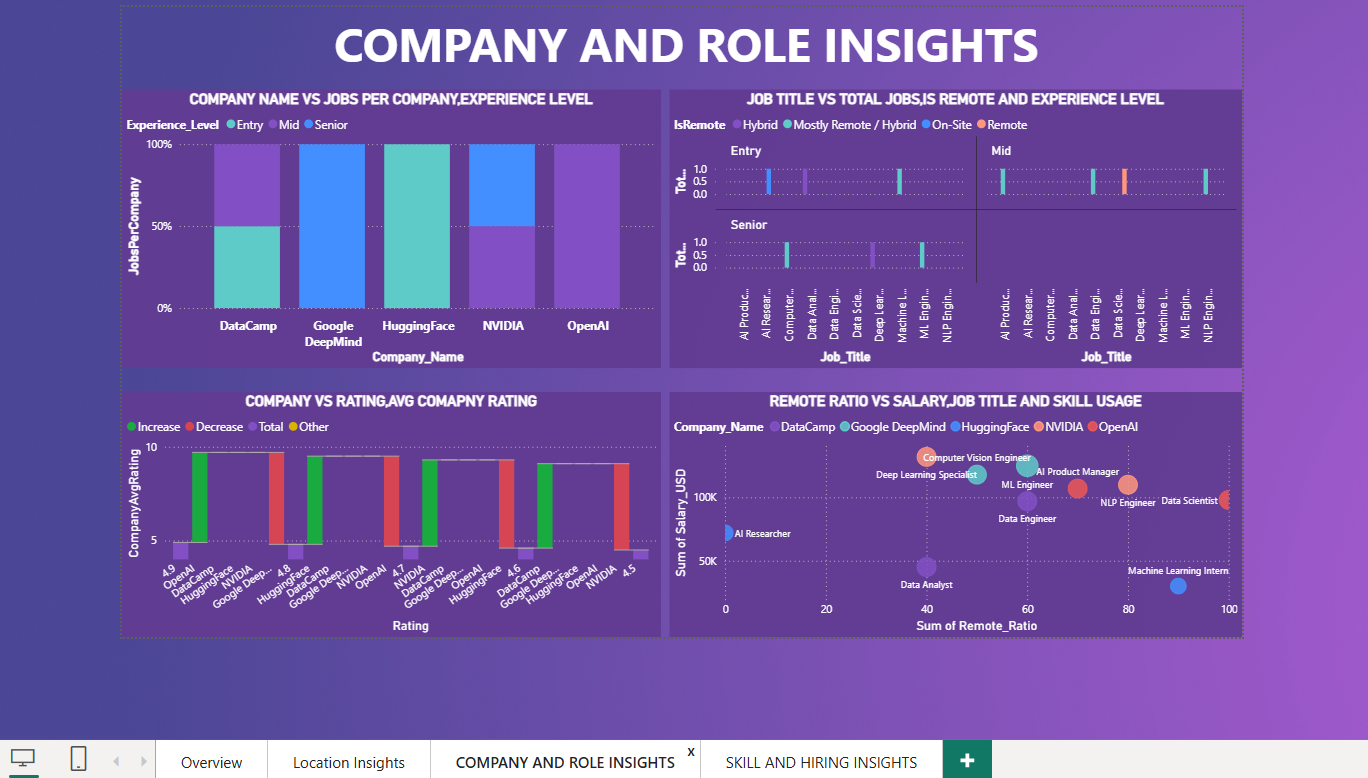

Layout of this report page (visuals, bound fields, positions):
{"tool":"powerbi","page":{"name":"COMPANY AND ROLE INSIGHTS","canvas":[1280,720],"ordinal":2},"visuals":[{"type":"textbox","box":[10,0,1270,94.3],"z":0},{"type":"hundredPercentStackedColumnChart","title":"COMPANY NAME VS JOBS PER COMPANY,EXPERIENCE LEVEL","fields":{"Category":["Dim_Companies.Company_Name"],"Y":["Dim_Companies.JobsPerCompany"],"Series":["Fact_Jobs.Experience_Level"]},"box":[0,94.3,615.7,318.6],"z":1000},{"type":"waterfallChart","title":"COMPANY VS RATING,AVG COMAPNY RATING","fields":{"Category":["Dim_Companies.Rating"],"Breakdown":["Dim_Companies.Company_Name"],"Y":["Dim_Companies.CompanyAvgRating"]},"box":[0,440,615.7,280],"z":2000},{"type":"clusteredColumnChart","title":"JOB TITLE VS TOTAL JOBS,IS REMOTE AND EXPERIENCE LEVEL","fields":{"Category":["Fact_Jobs.Job_Title"],"Y":["Fact_Jobs.TotalJobs"],"Series":["Fact_Jobs.IsRemote"],"Rows":["Fact_Jobs.Experience_Level"]},"box":[625.7,94.3,654.3,318.6],"z":3000},{"type":"scatterChart","title":"REMOTE RATIO VS SALARY,JOB TITLE AND SKILL USAGE","fields":{"Category":["Fact_Jobs.Job_Title"],"Series":["Dim_Companies.Company_Name"],"X":["Sum(Fact_Jobs.Remote_Ratio)"],"Y":["Sum(Fact_Jobs.Salary_USD)"],"Size":["Dim_Skills.SkillUsageCount"]},"box":[625.7,440,654.3,280],"z":4000}]}

Visuals, with their boxes on the page's 1280x720 design canvas (x1, y1, x2, y2). These are canvas units, not pixel positions in the 1368x778 screenshot, which may show the page scaled, cropped or inside an application window:
textbox: <box>10,0,1280,94</box>
"COMPANY NAME VS JOBS PER COMPANY,EXPERIENCE LEVEL" hundredPercentStackedColumnChart: <box>0,94,616,413</box>
"COMPANY VS RATING,AVG COMAPNY RATING" waterfallChart: <box>0,440,616,720</box>
"JOB TITLE VS TOTAL JOBS,IS REMOTE AND EXPERIENCE LEVEL" clusteredColumnChart: <box>626,94,1280,413</box>
"REMOTE RATIO VS SALARY,JOB TITLE AND SKILL USAGE" scatterChart: <box>626,440,1280,720</box>
